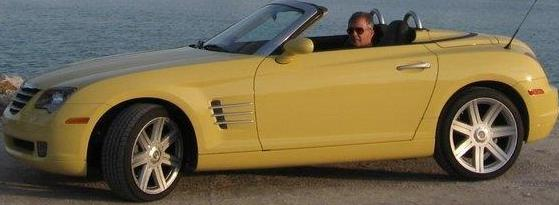front_view: (3, 74, 99, 171)
headlight: (36, 83, 80, 117)
side_glass: (264, 4, 443, 51)
